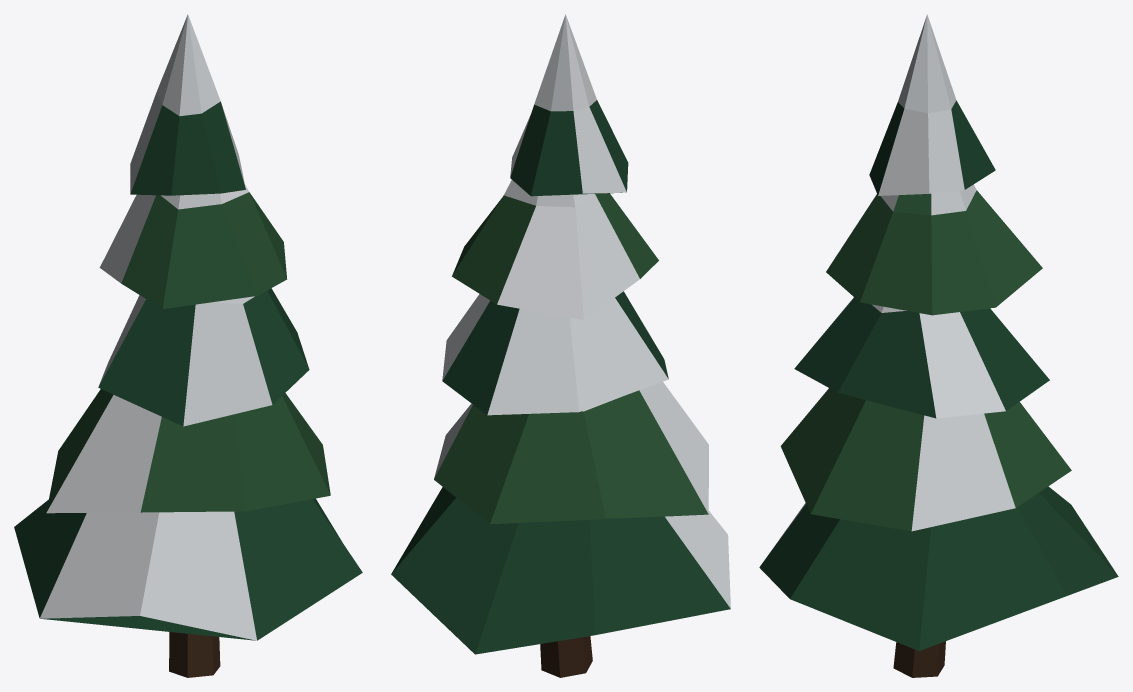
Rendered from Tree_SnowPine_A.glb.
3 renders of one model, left to right at view 1: azimuth 30°, elevation 25°; view 2: azimuth 150°, elevation 25°; view 3: azimuth 270°, elevation 25°, orthographic.
Visible parts, largest first — view 1: Tree_SnowPine_A; view 2: Tree_SnowPine_A; view 3: Tree_SnowPine_A.
Boxes of the visible parts, <box> form: Tree_SnowPine_A: <box>14,14,362,677</box>; Tree_SnowPine_A: <box>391,14,730,677</box>; Tree_SnowPine_A: <box>759,14,1118,677</box>.
Bounding box in the file's own units: 2.28 × 4.62 × 2.3.
